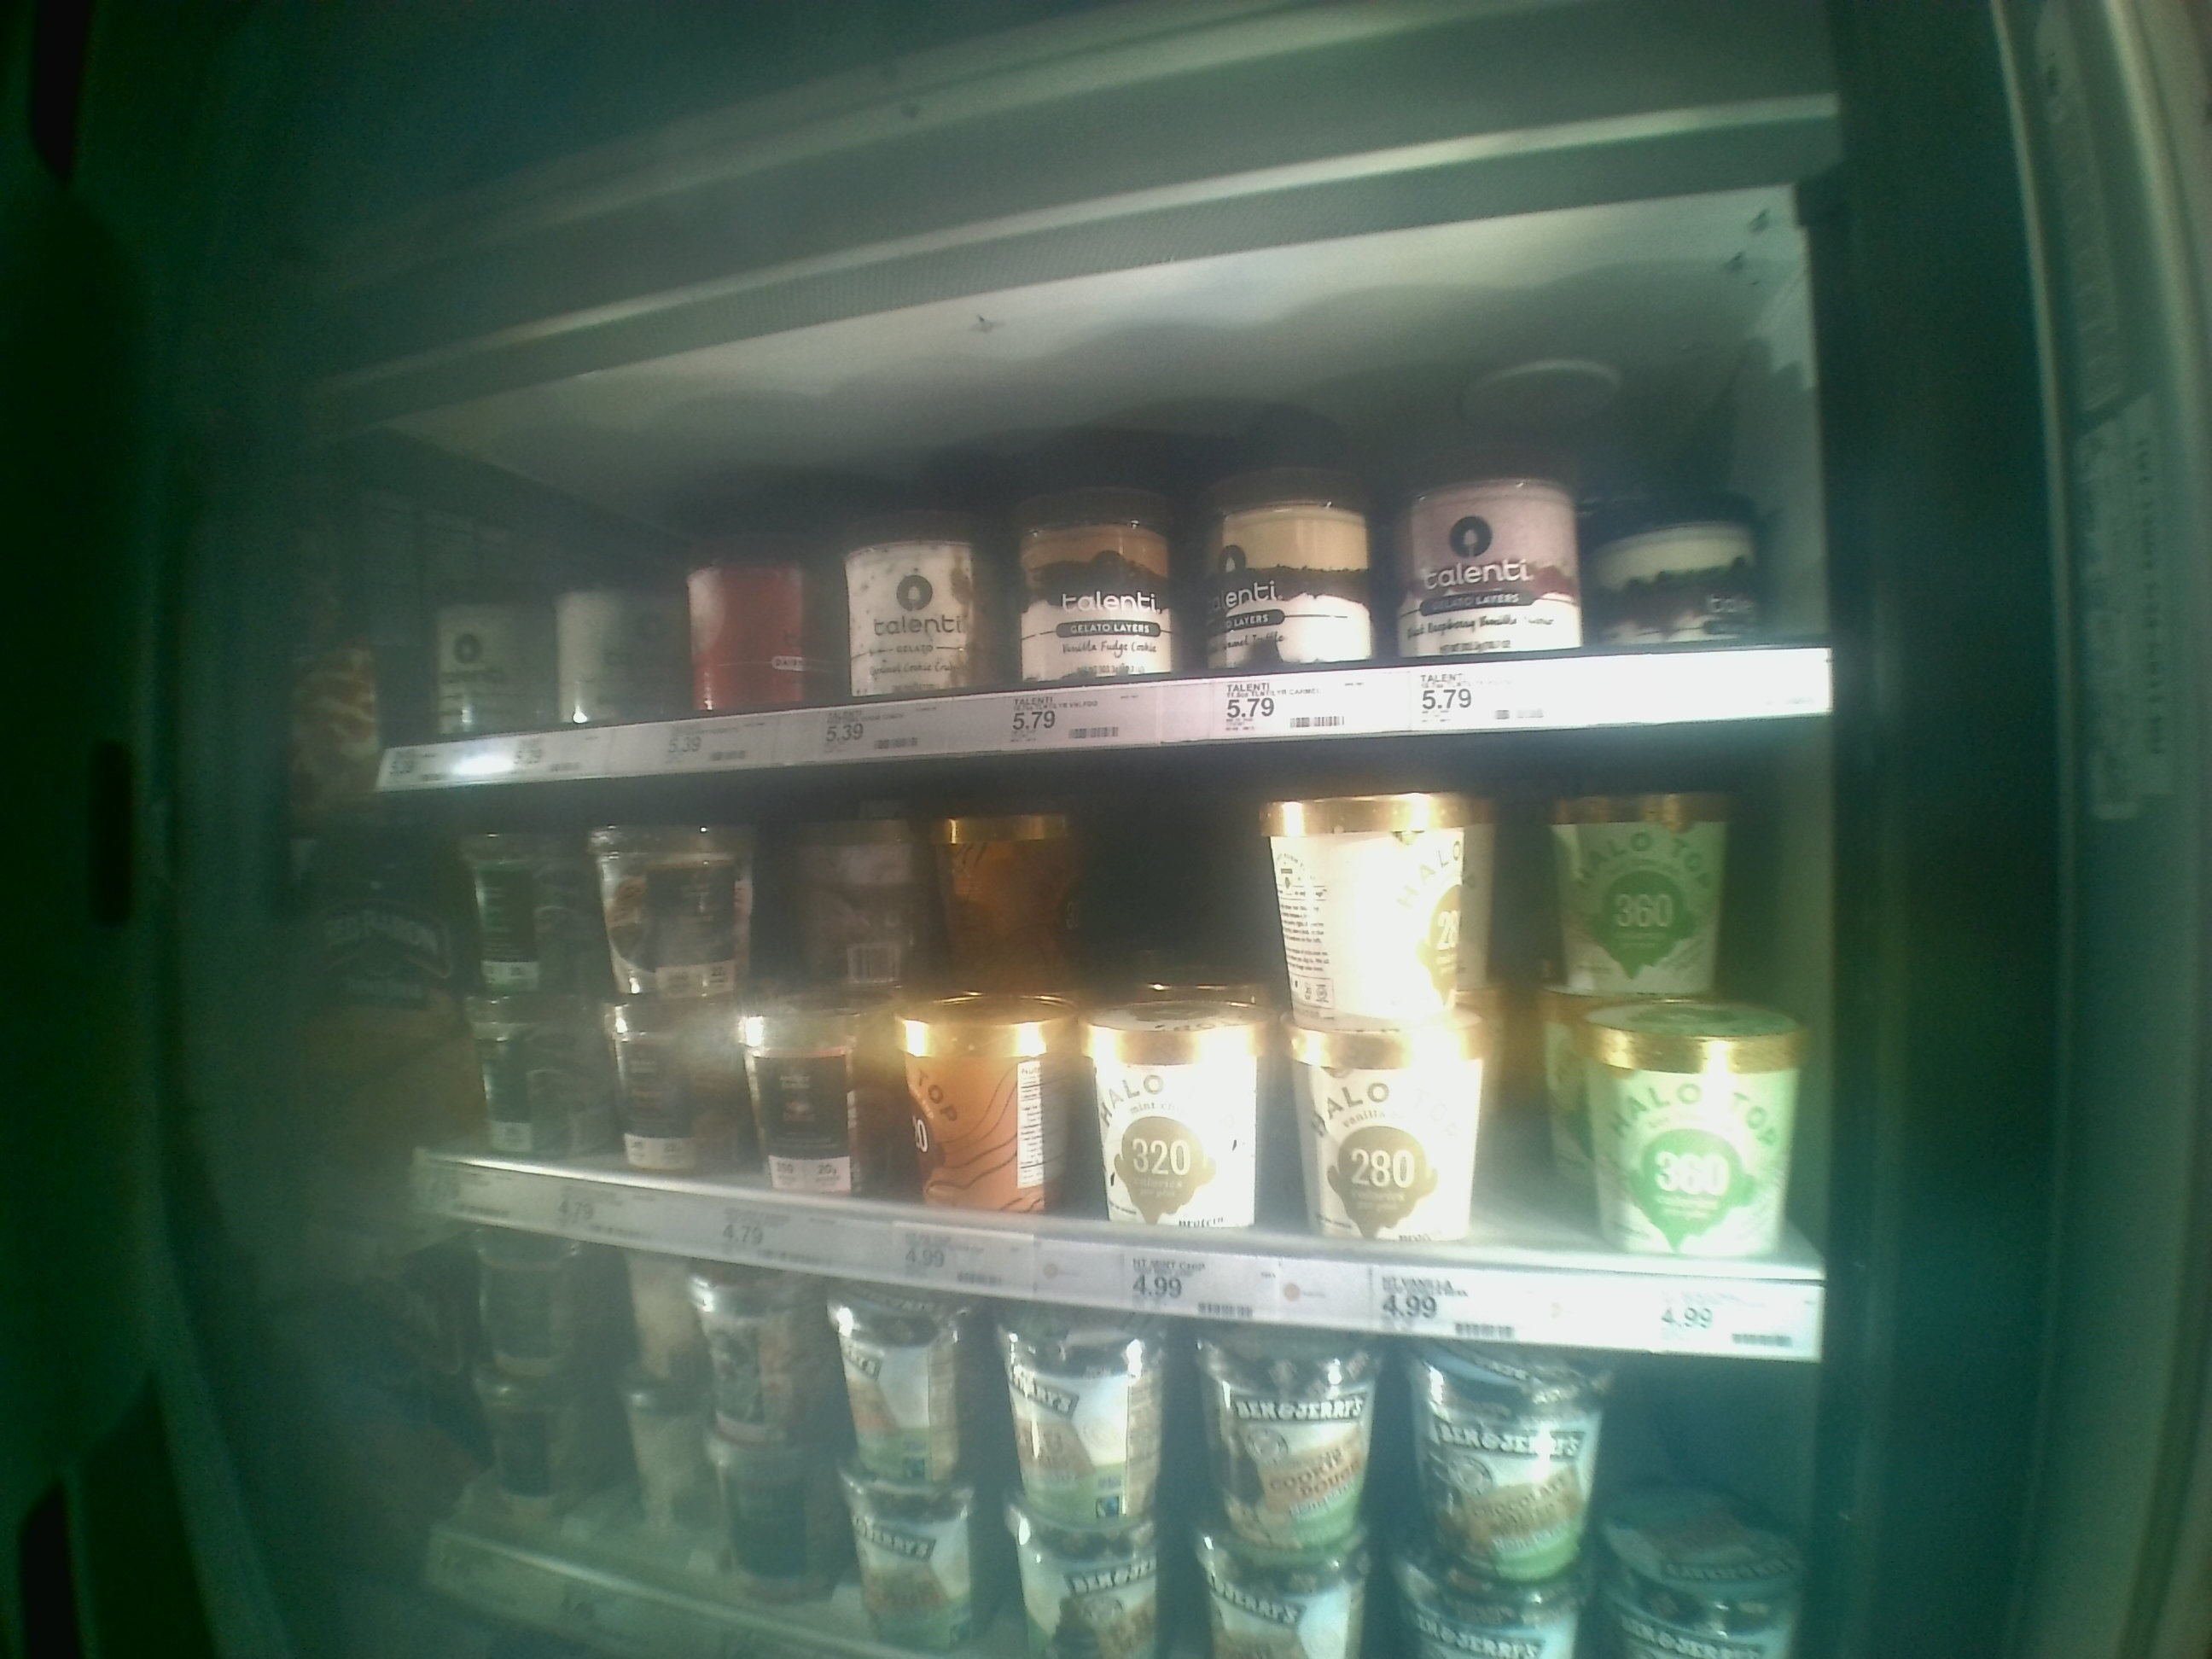shelf: (385, 713, 1827, 1366), (392, 312, 1827, 788)
